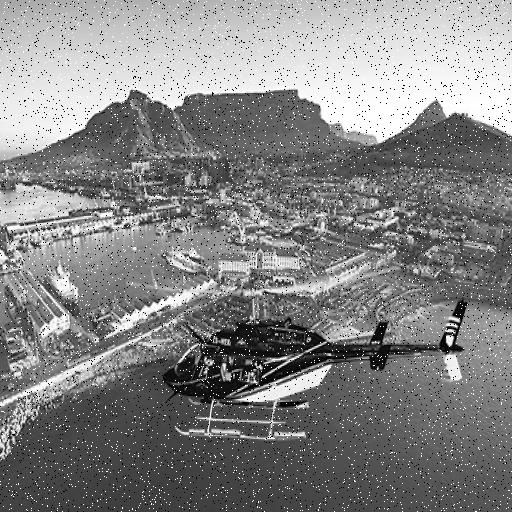helicopter: (164, 276, 475, 456)
